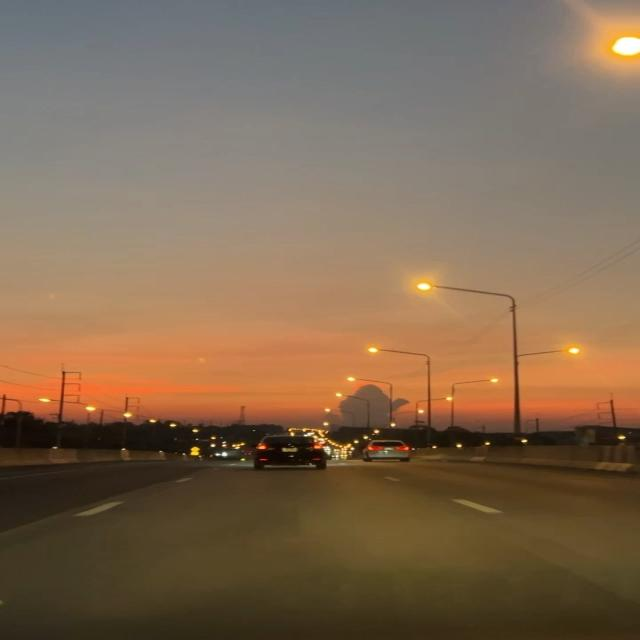Poth-hole: (266, 465, 594, 603)
